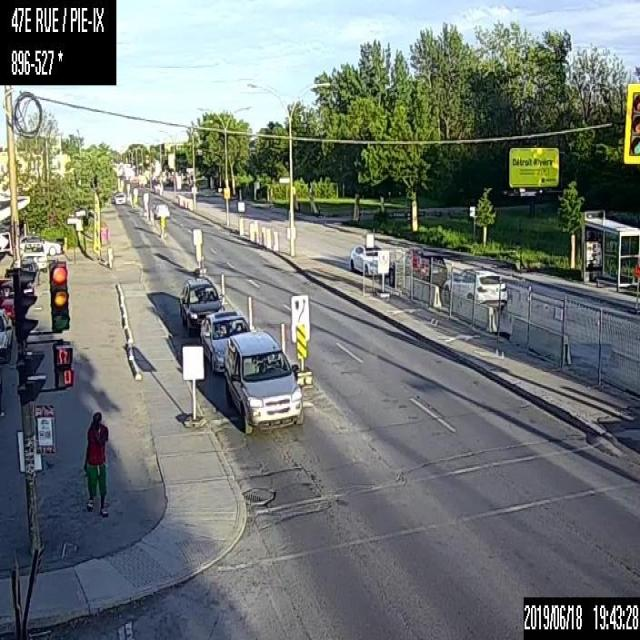construction: (249, 218, 258, 240), (246, 295, 252, 327), (280, 322, 285, 354), (260, 224, 266, 246), (266, 226, 272, 247), (272, 230, 278, 250), (238, 218, 244, 234), (220, 272, 224, 294)
pedestrian: (83, 409, 108, 516)
vehicle: (224, 328, 306, 432), (200, 308, 261, 374), (178, 274, 226, 332), (440, 265, 507, 306), (390, 246, 446, 284), (352, 239, 389, 274), (5, 257, 40, 293), (18, 233, 62, 256), (19, 240, 46, 272), (0, 306, 13, 362), (114, 192, 126, 202)
